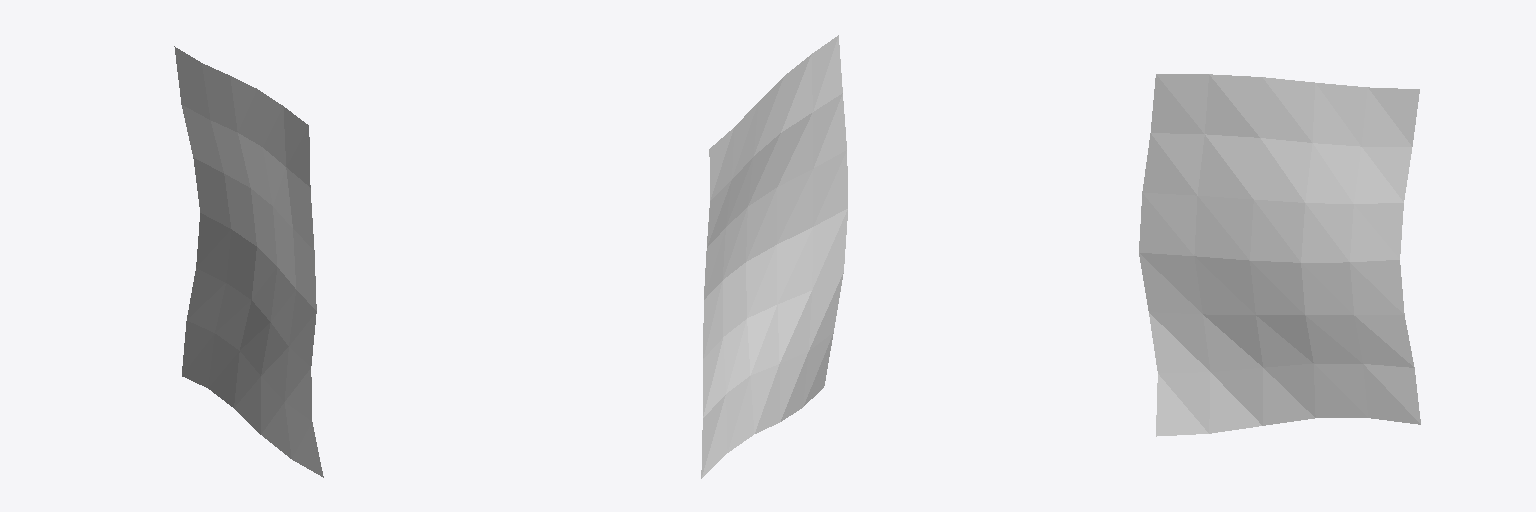
Rendered from Affiche.obj.
3 renders of one model, left to right at view 1: azimuth 30°, elevation 25°; view 2: azimuth 150°, elevation 25°; view 3: azimuth 270°, elevation 25°, orthographic.
Parts seen in each view (by area): view 1: poster9_Mesh.130; view 2: poster9_Mesh.130; view 3: poster9_Mesh.130.
Part boxes in pixels (x1,y1,x2,y2): poster9_Mesh.130: (174, 46, 323, 477); poster9_Mesh.130: (701, 35, 847, 478); poster9_Mesh.130: (1139, 74, 1420, 436).
Bounding box in the file's own units: 0.1782 × 2.63 × 1.89.